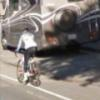bicycles: (15, 48, 41, 87)
